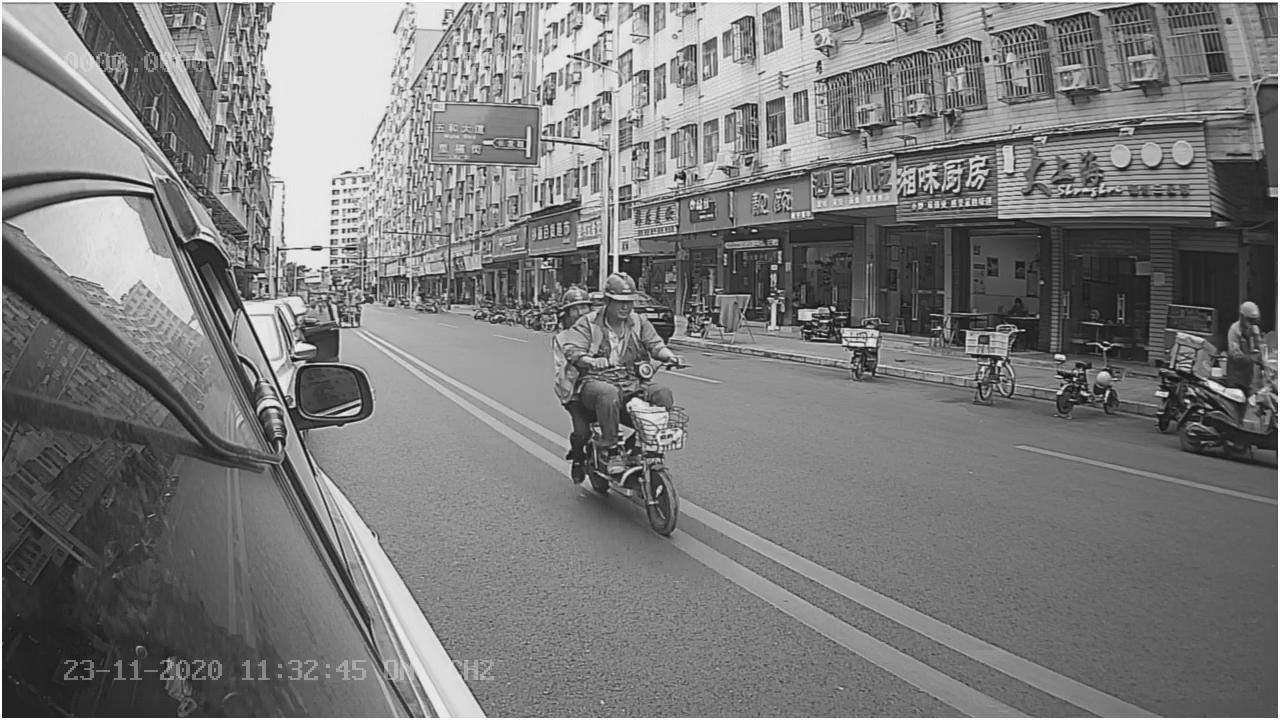person: (564, 262, 670, 373)
